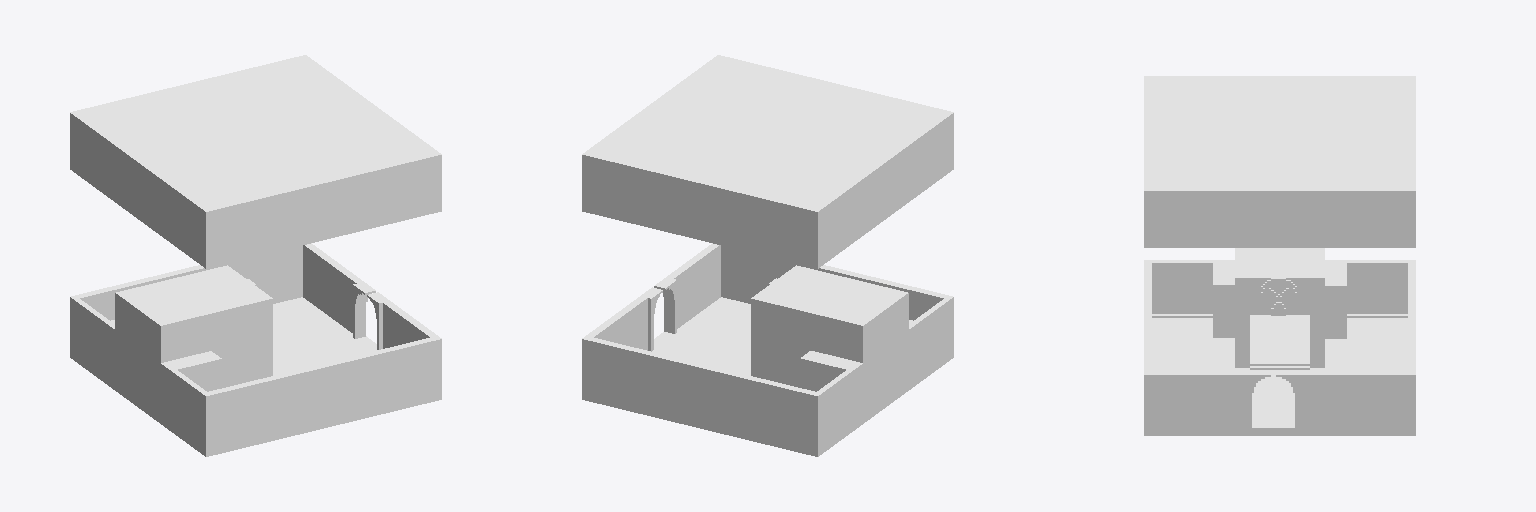
The model's file is NewPowerRoom.obj.
3 views of the same model, side by side, from view 1: azimuth 30°, elevation 25°; view 2: azimuth 150°, elevation 25°; view 3: azimuth 270°, elevation 25° (orthographic).
Bounding box in the file's own units: 126 × 125 × 126.